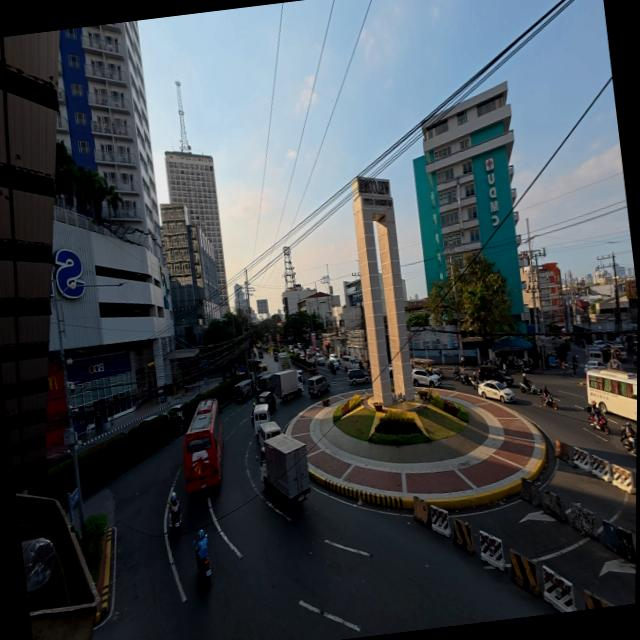Jeepneys: (410, 358, 442, 378), (234, 380, 252, 402), (257, 371, 275, 392)
bus: (183, 399, 222, 492), (586, 370, 636, 422)
car: (477, 380, 513, 403), (478, 365, 512, 386), (411, 368, 440, 387), (45, 450, 73, 469), (347, 368, 368, 385), (583, 360, 604, 373), (167, 404, 183, 421), (137, 415, 157, 426), (327, 358, 338, 369), (328, 354, 339, 365), (315, 354, 324, 365), (593, 340, 605, 348), (388, 365, 392, 377), (299, 352, 304, 360), (272, 353, 277, 361)
motorcycle: (586, 407, 609, 434), (620, 427, 636, 455), (198, 558, 211, 585), (539, 391, 557, 410), (519, 381, 538, 395), (170, 512, 180, 534), (460, 374, 471, 386), (520, 364, 531, 375), (452, 366, 459, 381), (470, 378, 478, 390), (572, 364, 577, 376)
trucks: (258, 435, 309, 506), (271, 370, 301, 401)
vans: (257, 422, 280, 447), (252, 404, 270, 434), (307, 376, 329, 397), (257, 392, 275, 412), (585, 345, 602, 361), (340, 356, 358, 371)
